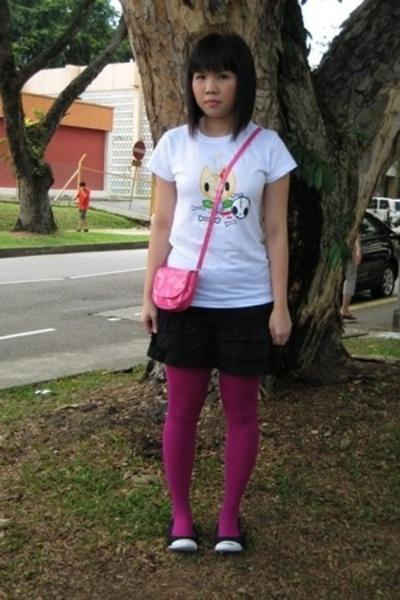bag: (153, 228, 212, 309)
shirt: (143, 120, 296, 307)
shoe: (168, 537, 242, 563)
shorts: (148, 301, 281, 379)
